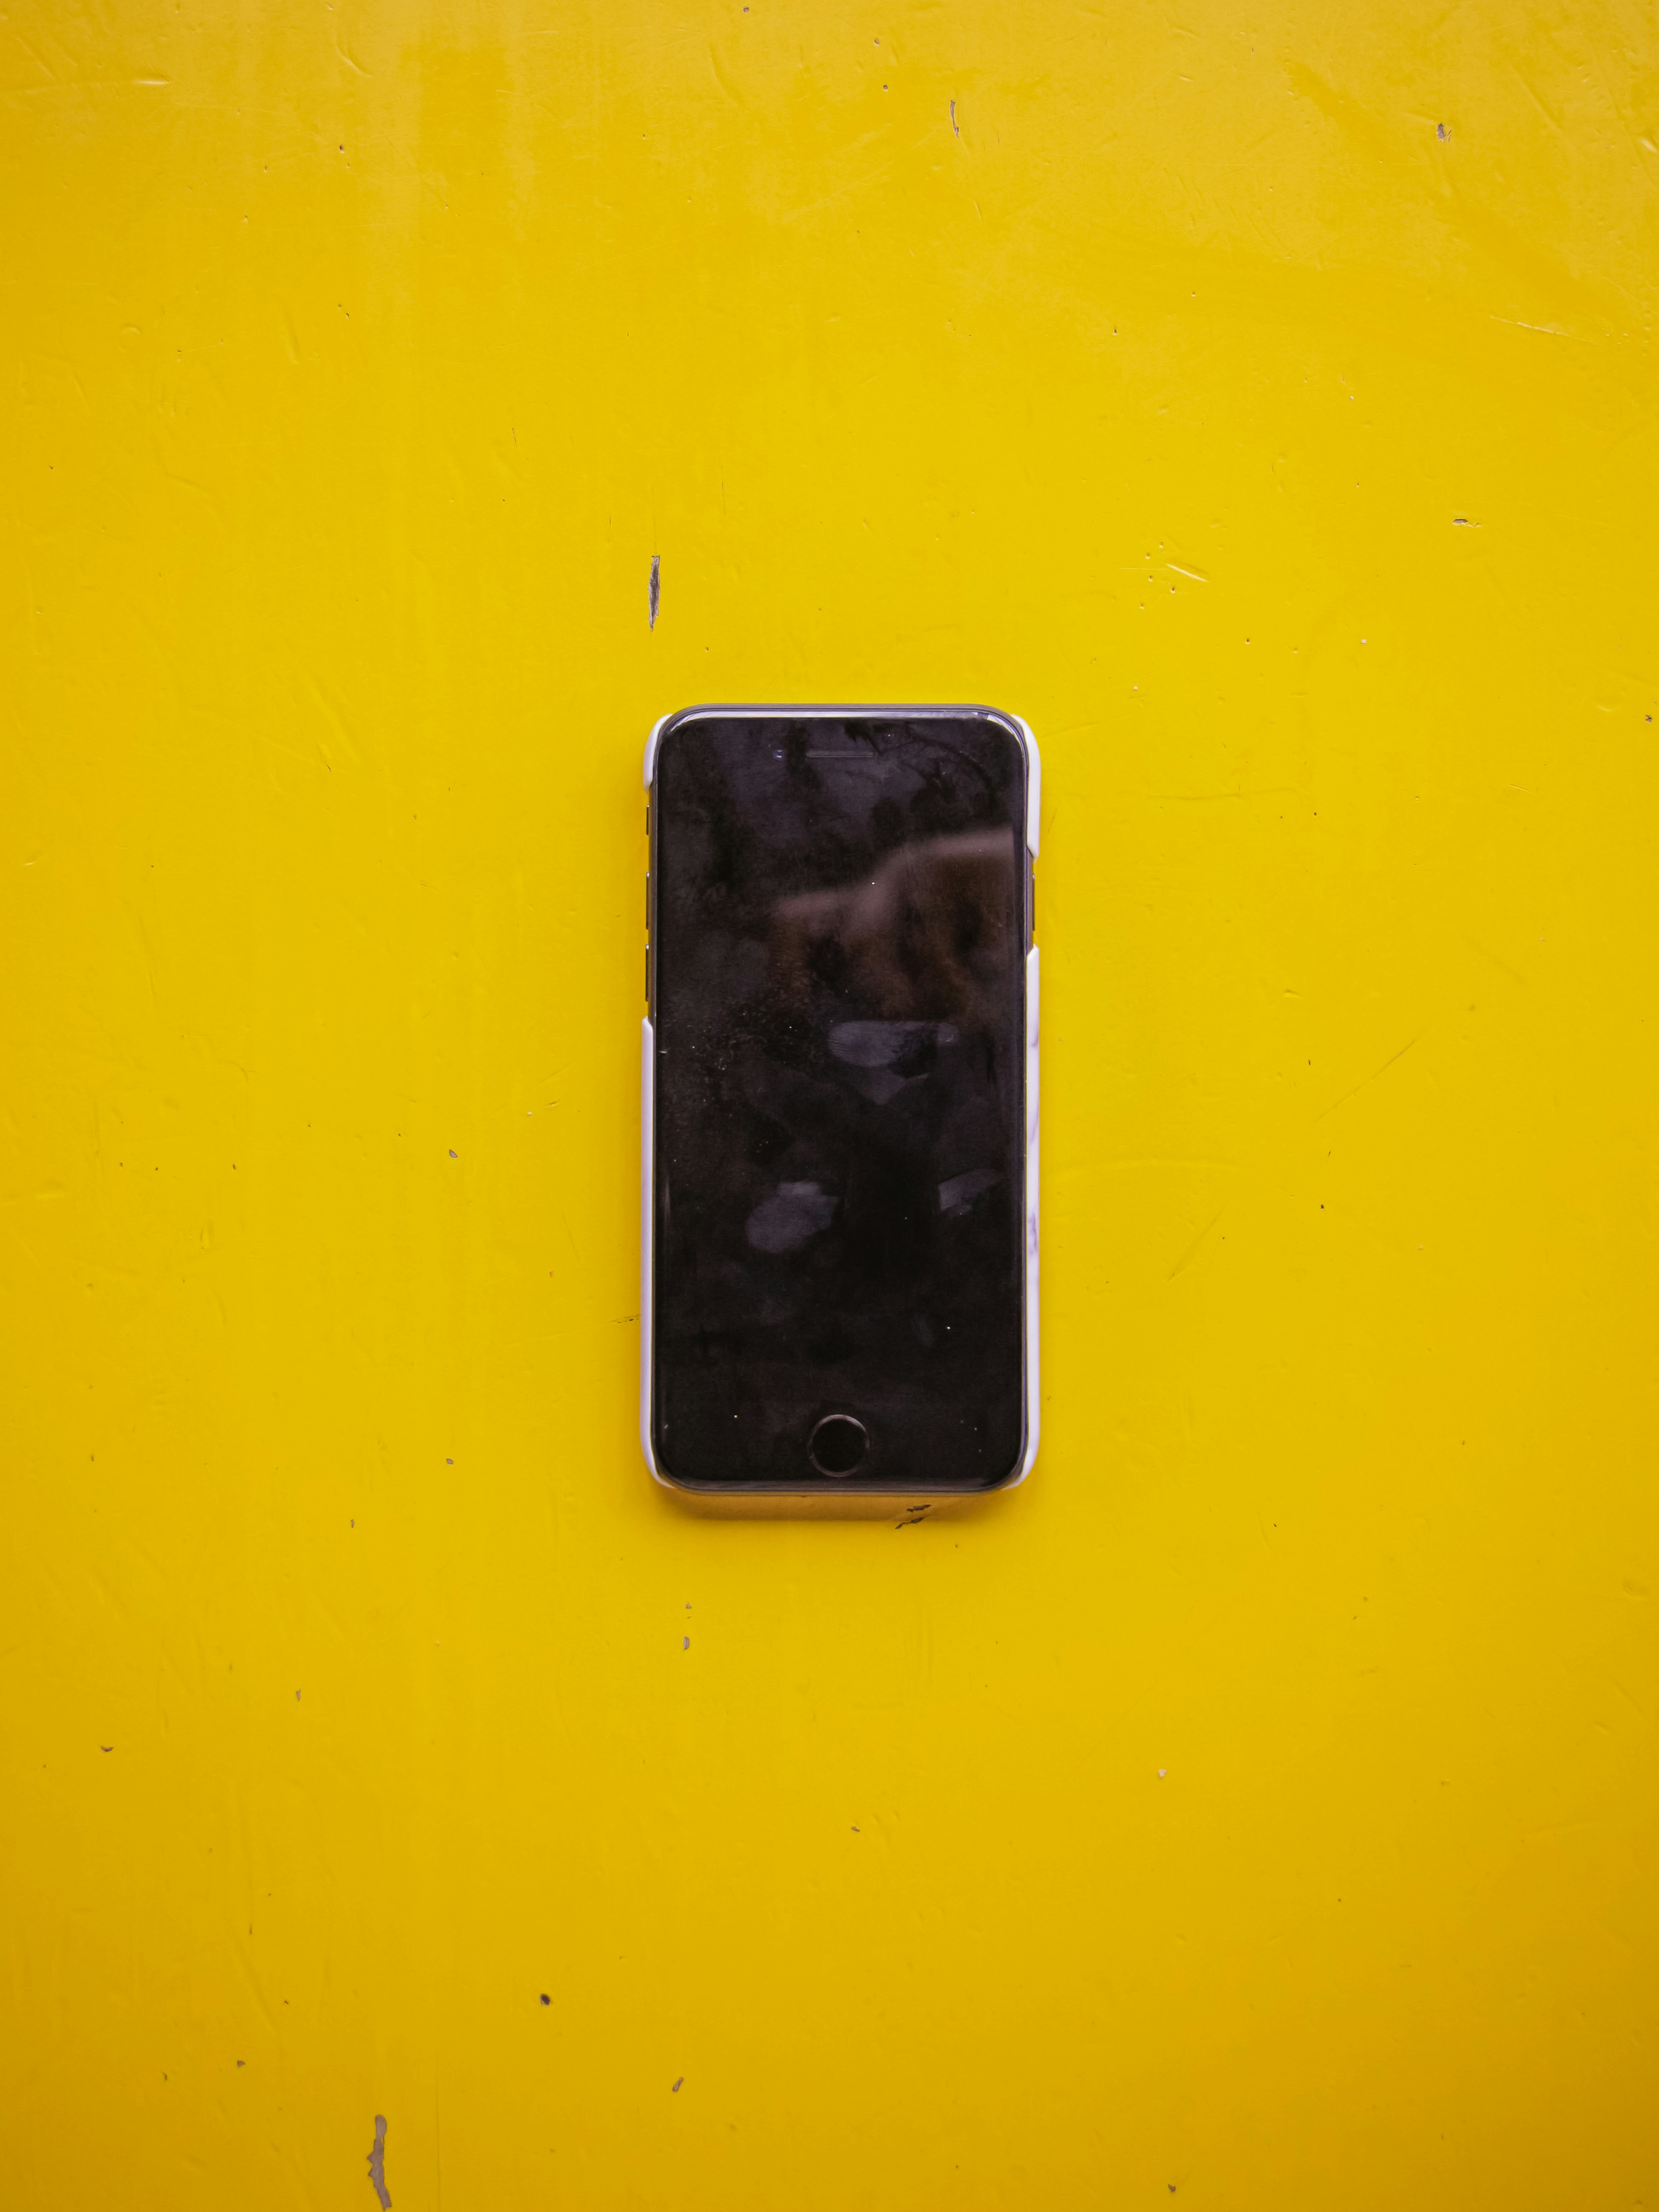p6: (627, 671, 1063, 1534)
